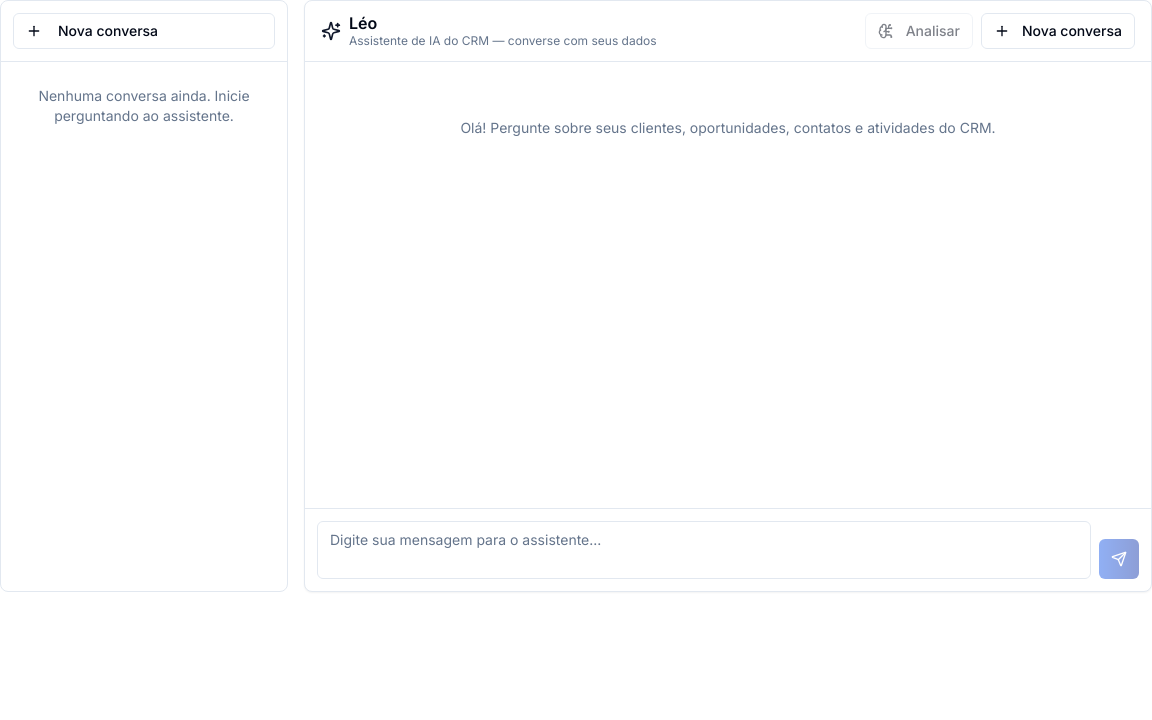
Test case: AiChatAssistant (AI-04) › envia mensagem e exibe a resposta da IA
Type "Como está esse cliente?" into the text box labelled "mensagem para o assistente" at (704, 550), box [317,521,1091,579]
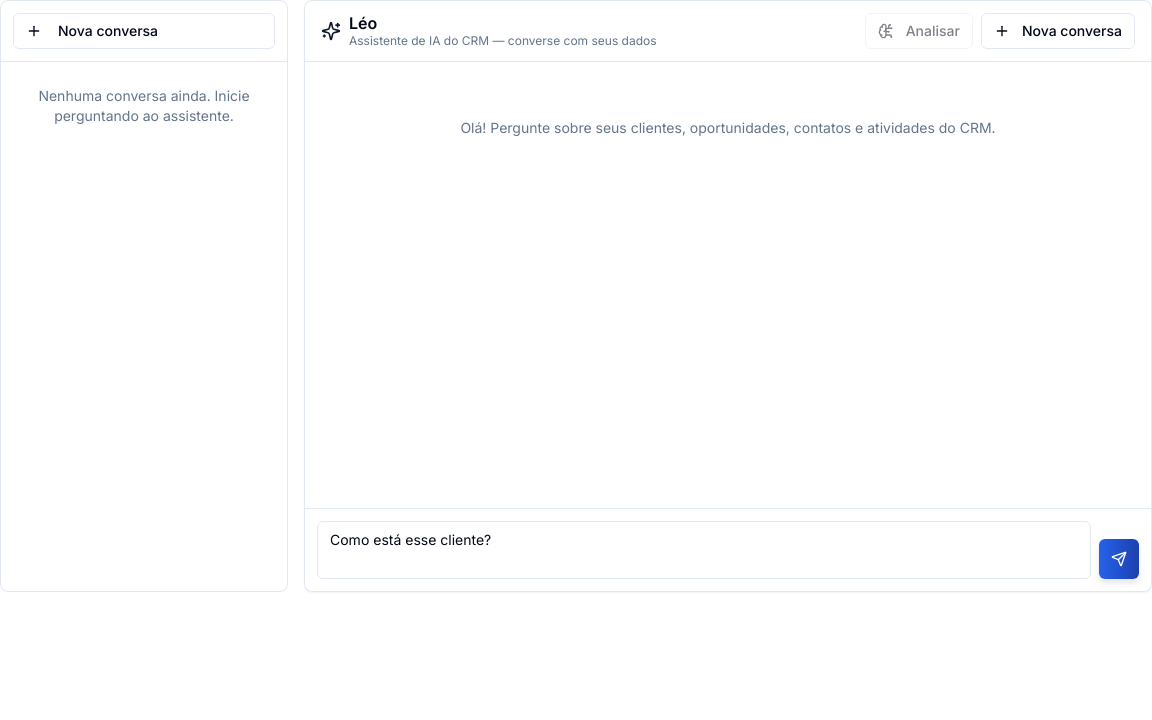
Click the button named "Enviar mensagem" at (1119, 559), box [1099,539,1139,579]
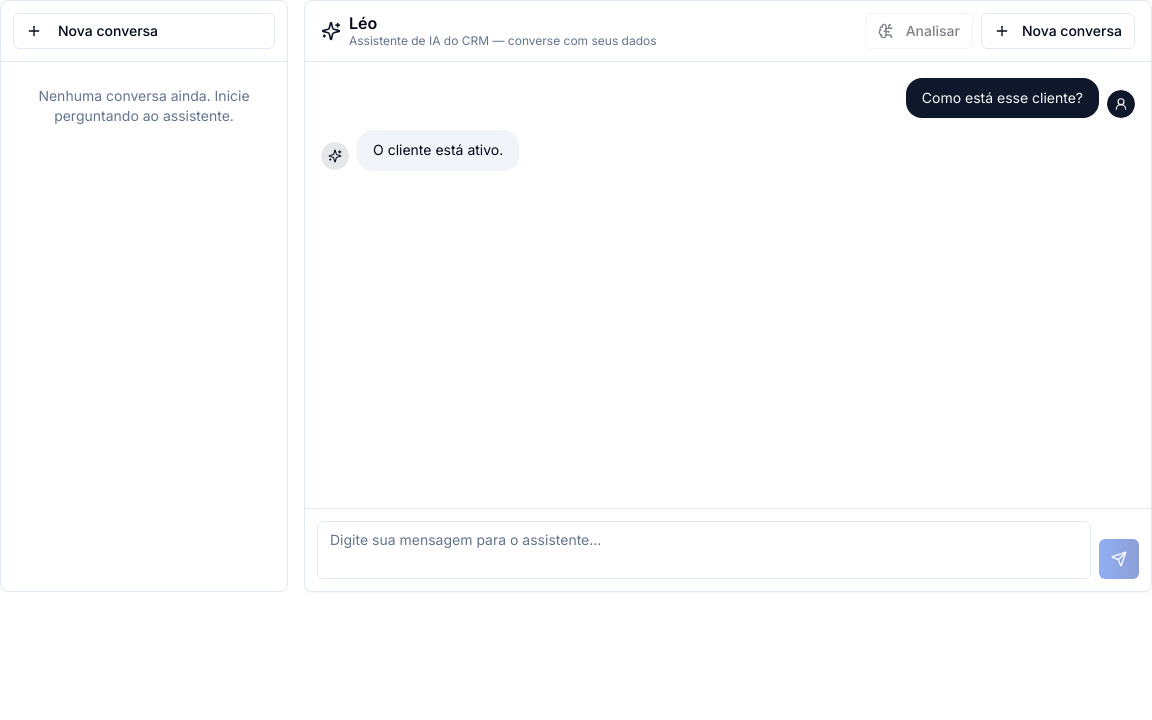
Check: the text "O cliente está ativo." is shown, box [373,140,503,160]
